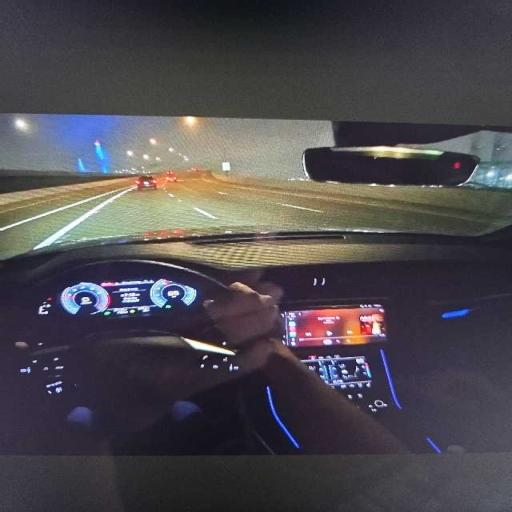car: (0, 119, 511, 484), (136, 175, 157, 190), (166, 172, 177, 181)
lane: (0, 178, 488, 257), (0, 182, 119, 258)
person: (101, 282, 407, 453)
